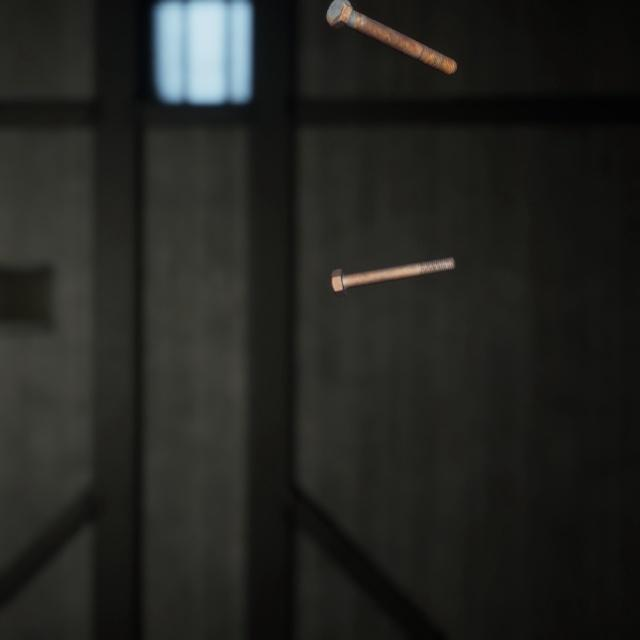bolt: (321, 0, 461, 71), (326, 236, 460, 285)
